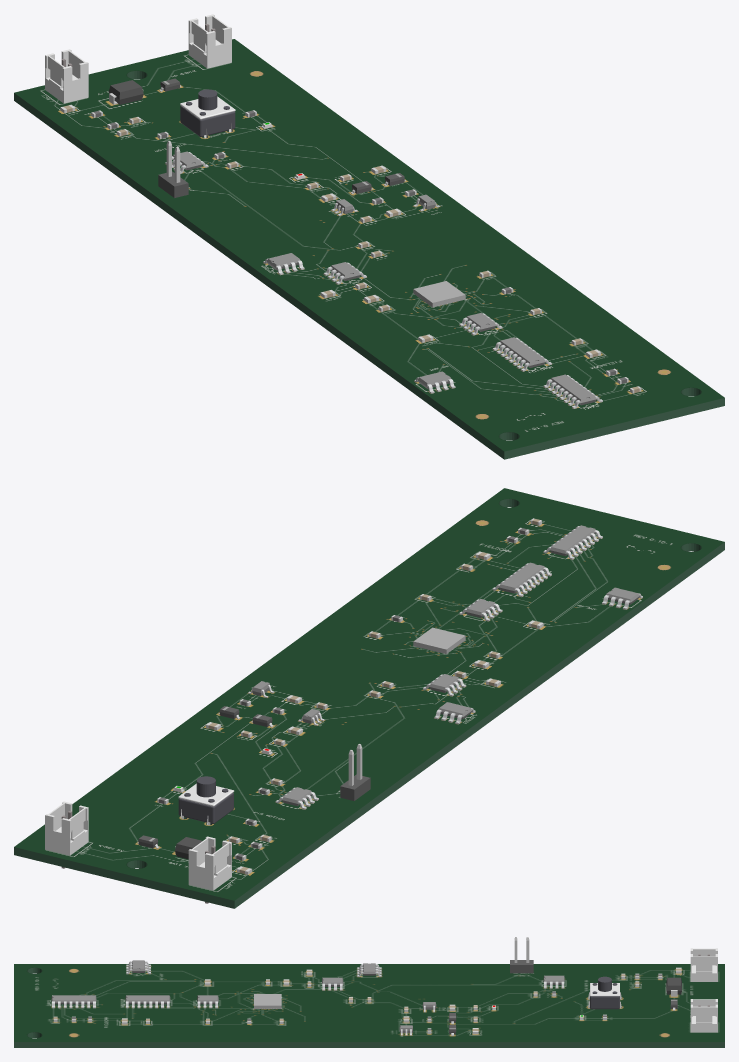
The model's file is fieldcam.glb.
3 views of the same model, one above another, from view 1: azimuth 30°, elevation 25°; view 2: azimuth 150°, elevation 25°; view 3: azimuth 270°, elevation 25° (orthographic). The views are drawn at different scales.
Visible parts, largest first — view 1: Box0, SW_WAKE, J_BATT, J_WIRED, CAM1, RADIO1, J_AUDIO, U1; view 2: Box0, SW_WAKE, J_BATT, J_WIRED, RADIO1, CAM1, J_AUDIO, U1; view 3: Box0, J_BATT, J_WIRED, SW_WAKE, CAM1, RADIO1, J_AUDIO, U1, J_ANT, J_SPEAKER, D_TVS, MODEM1 (+2 smaller).
Boxes of the visible parts, x1=… form: Box0: x1=14, y1=39, x2=724, y2=459; SW_WAKE: x1=180, y1=89, x2=235, y2=138; J_BATT: x1=45, y1=49, x2=88, y2=103; J_WIRED: x1=188, y1=14, x2=231, y2=68; CAM1: x1=543, y1=374, x2=602, y2=408; RADIO1: x1=492, y1=337, x2=551, y2=371; J_AUDIO: x1=158, y1=141, x2=188, y2=197; U1: x1=413, y1=281, x2=465, y2=307; Box0: x1=14, y1=488, x2=724, y2=908; SW_WAKE: x1=178, y1=776, x2=234, y2=825; J_BATT: x1=188, y1=836, x2=231, y2=903; J_WIRED: x1=45, y1=801, x2=88, y2=868; RADIO1: x1=492, y1=562, x2=551, y2=596; CAM1: x1=543, y1=525, x2=602, y2=559; J_AUDIO: x1=340, y1=744, x2=370, y2=800; U1: x1=413, y1=627, x2=465, y2=653; Box0: x1=14, y1=964, x2=724, y2=1047; J_BATT: x1=690, y1=948, x2=717, y2=981; J_WIRED: x1=690, y1=999, x2=717, y2=1032; SW_WAKE: x1=588, y1=976, x2=621, y2=1009; CAM1: x1=51, y1=995, x2=96, y2=1008; RADIO1: x1=125, y1=995, x2=170, y2=1008; J_AUDIO: x1=510, y1=937, x2=533, y2=973; U1: x1=254, y1=994, x2=281, y2=1008; J_ANT: x1=126, y1=960, x2=150, y2=974; J_SPEAKER: x1=357, y1=963, x2=381, y2=976; D_TVS: x1=666, y1=977, x2=681, y2=996; MODEM1: x1=197, y1=995, x2=218, y2=1008.
Bounding box in the file's own units: 40 × 11.82 × 154.
Materials: 24 (2 with a texture image).
